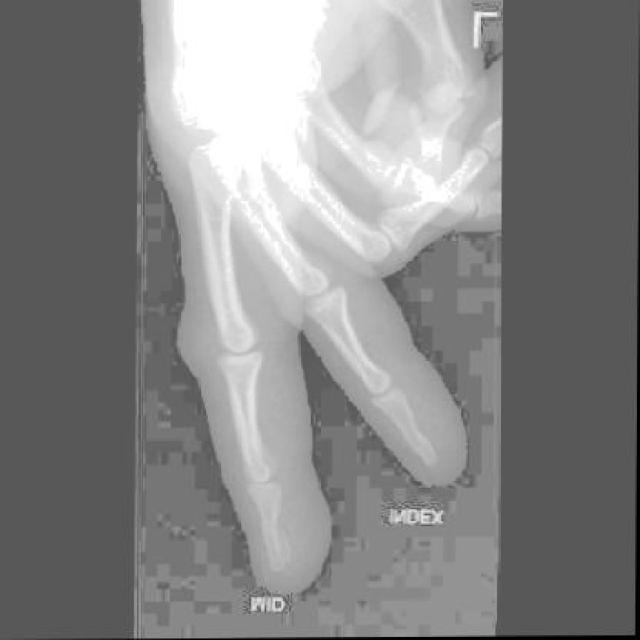Fracture: (263, 514, 288, 561)
